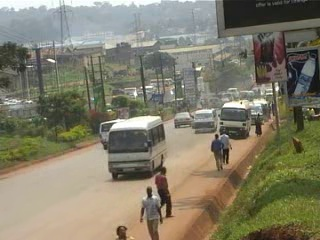Car: (172, 111, 195, 128)
